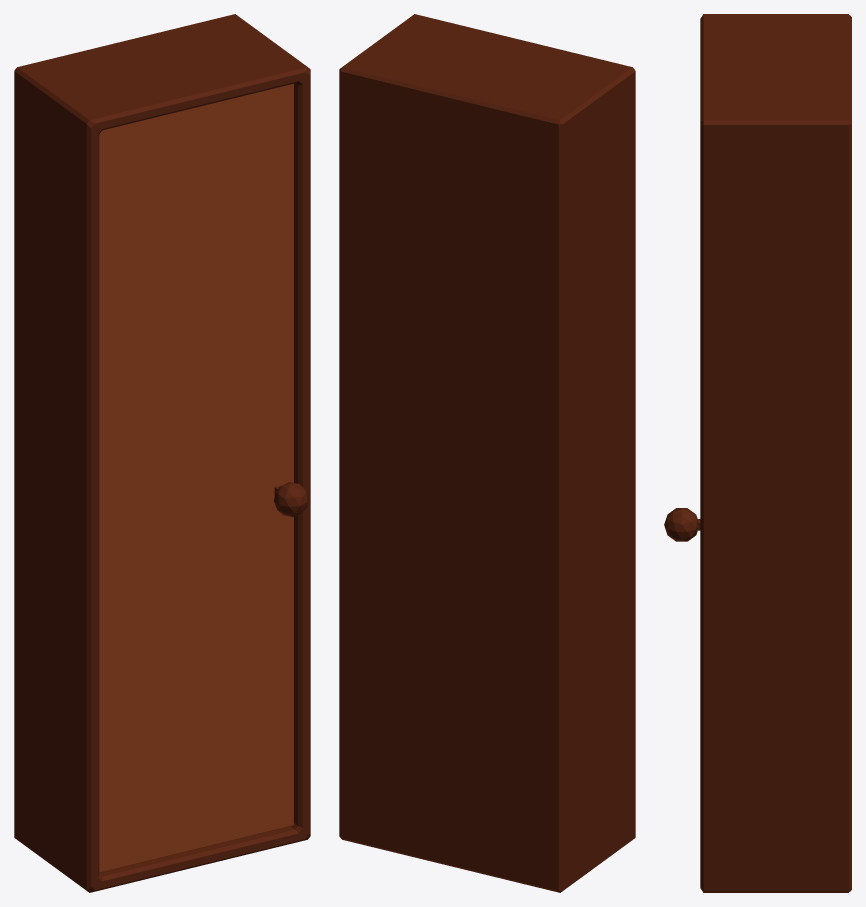
The model's file is hh_bookcase.glb.
3 views of the same model, side by side, from view 1: azimuth 30°, elevation 25°; view 2: azimuth 150°, elevation 25°; view 3: azimuth 270°, elevation 25° (orthographic).
Parts seen in each view (by area): view 1: Shelf_A_002, Shelf_A_001; view 2: Shelf_A_001; view 3: Shelf_A_001, Shelf_A_002.
Boxes of the visible parts, <box> form: Shelf_A_002: <box>99,83,308,872</box>; Shelf_A_001: <box>14,14,310,892</box>; Shelf_A_001: <box>339,14,635,892</box>; Shelf_A_001: <box>700,14,851,892</box>; Shelf_A_002: <box>664,508,700,541</box>.
Bounding box in the file's own units: 0.6527 × 2.15 × 0.474.
